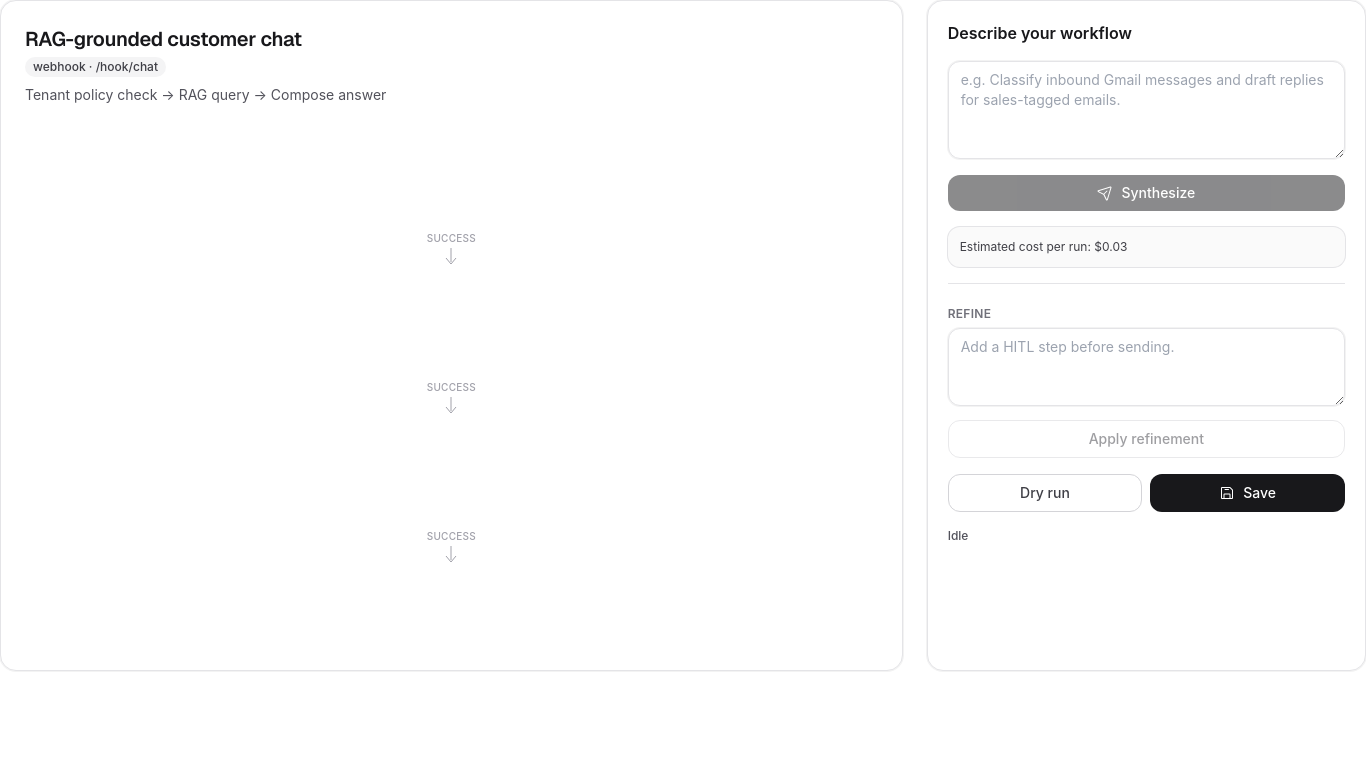
Test: WorkflowChatPanel › surfaces synthesize error in the banner
Replace the text in the text box with test id "intent-textarea" with "fail me" at {"x": 1146, "y": 110}, box x1=948 y1=61 x2=1345 y2=159
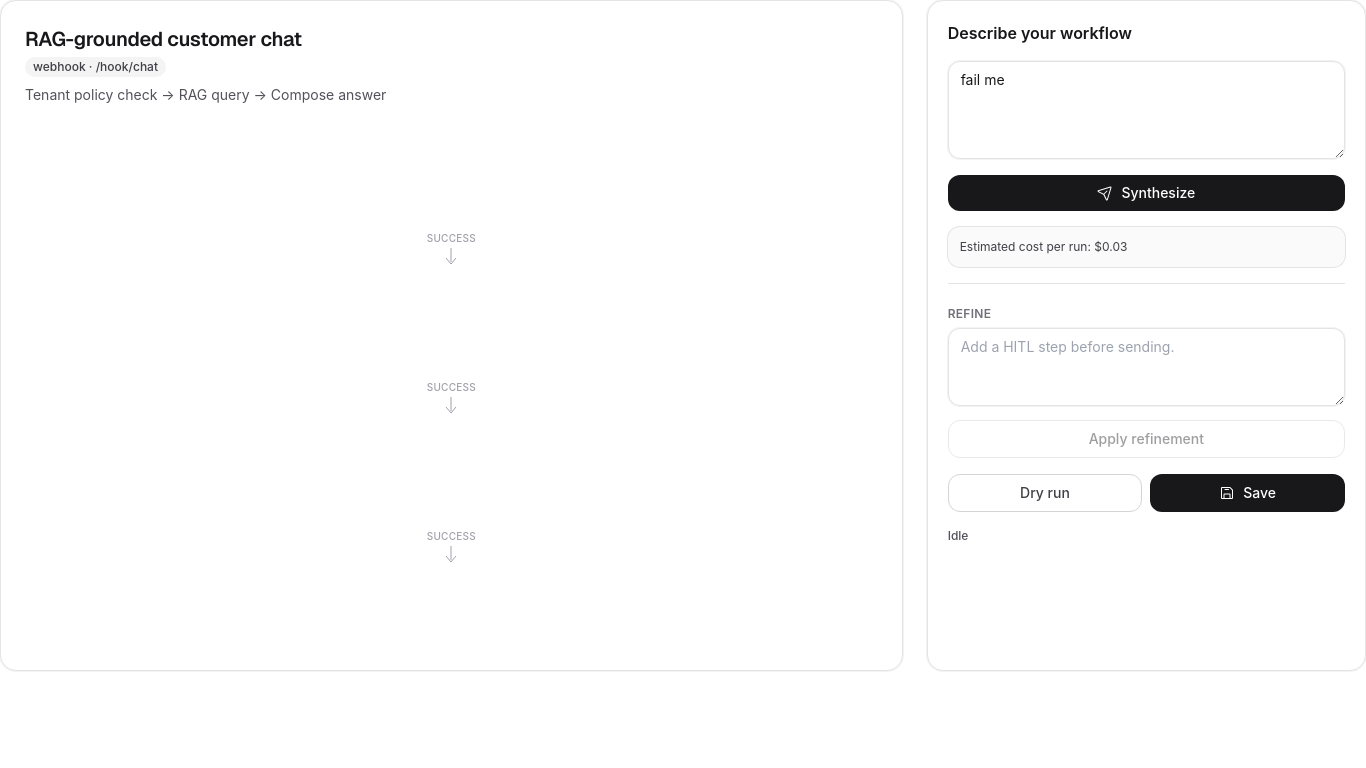
Click the button with test id "synthesize-button" at {"x": 1146, "y": 193}, box x1=948 y1=175 x2=1345 y2=211
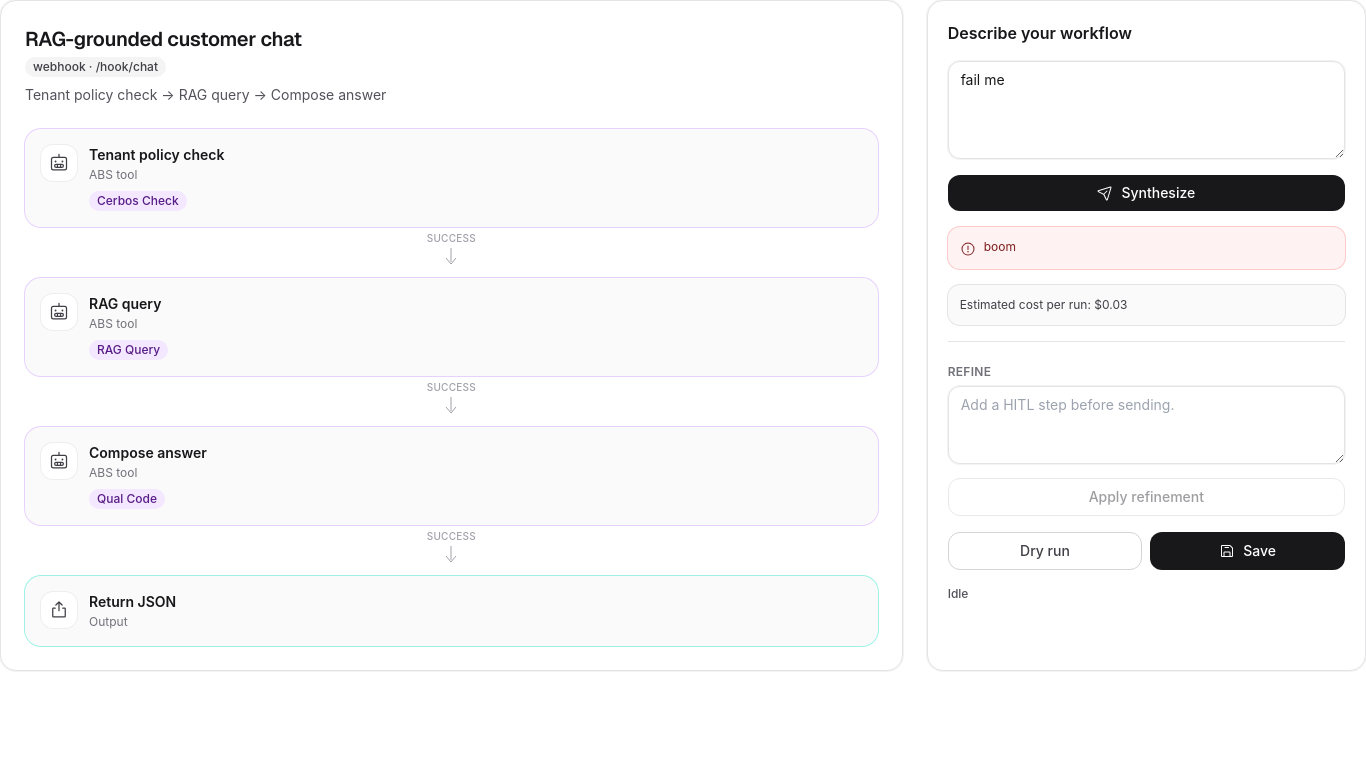
Expected: the element with test id "synthesize-error" reads "boom", x1=984 y1=239 x2=1016 y2=254
